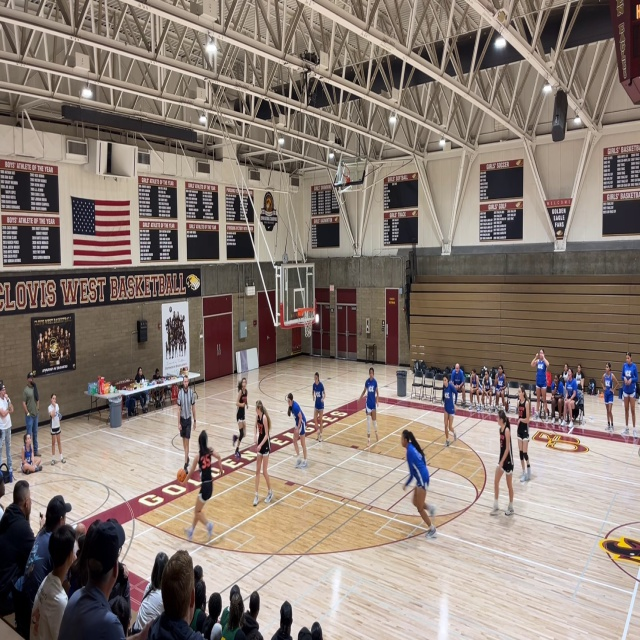Basketball: (176, 468, 188, 483)
